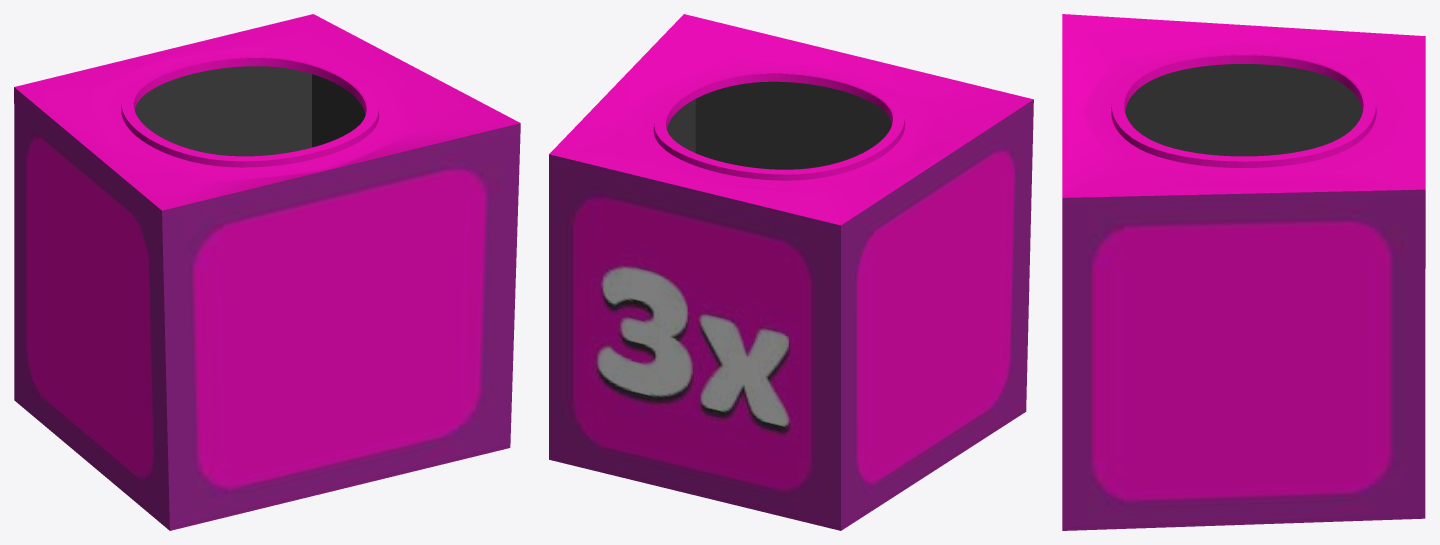
3 views of the same model, side by side, from view 1: azimuth 30°, elevation 25°; view 2: azimuth 150°, elevation 25°; view 3: azimuth 270°, elevation 25° (orthographic). The views are drawn at different scales.
Visible parts, largest first — view 1: 3x; view 2: 3x; view 3: 3x.
Boxes of the visible parts, x1,y1,x2,y2 form: 3x: (14,14,520,530); 3x: (549,14,1033,530); 3x: (1062,14,1425,530).
Size of the model in its own units: 121 by 104 by 101.
